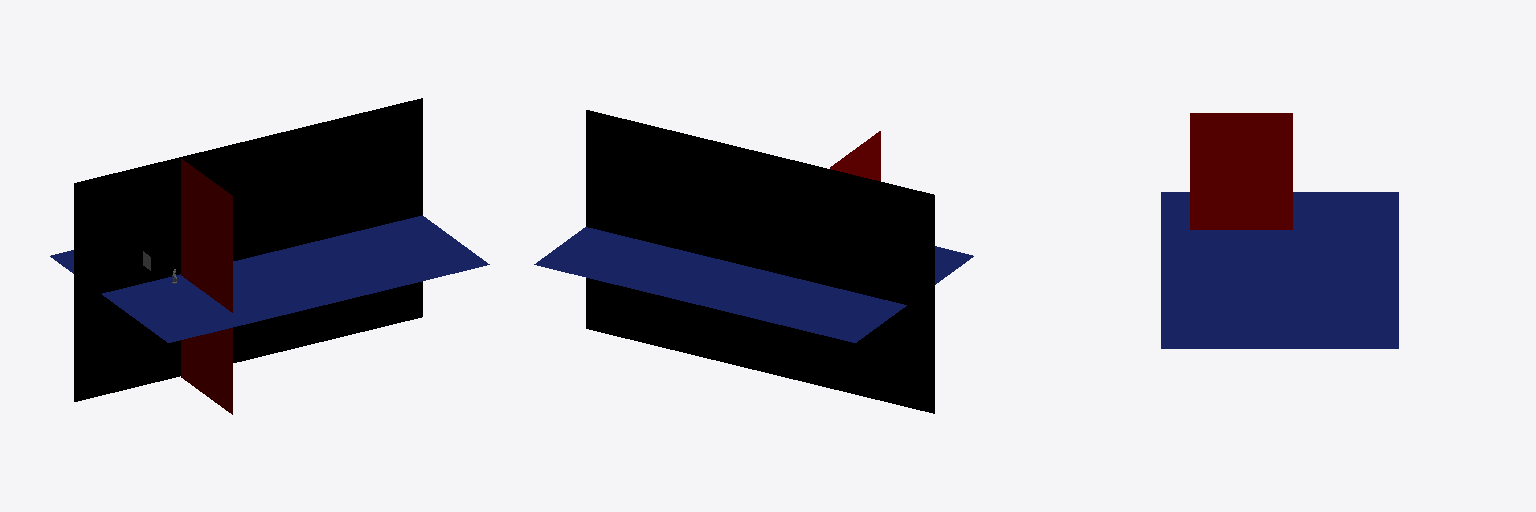
The model's file is venus.obj.
The picture shows the model from 3 angles: view 1: azimuth 30°, elevation 25°; view 2: azimuth 150°, elevation 25°; view 3: azimuth 270°, elevation 25°; orthographic projection.
Parts seen in each view (by area): view 1: pCube1; view 2: pCube1; view 3: pCube1.
Part boxes in pixels (x1,y1,x2,y2): pCube1: (50,98,489,414); pCube1: (534,110,973,413); pCube1: (1161,113,1398,348).
Size of the model in its own units: 25.68 by 15.42 by 15.22.